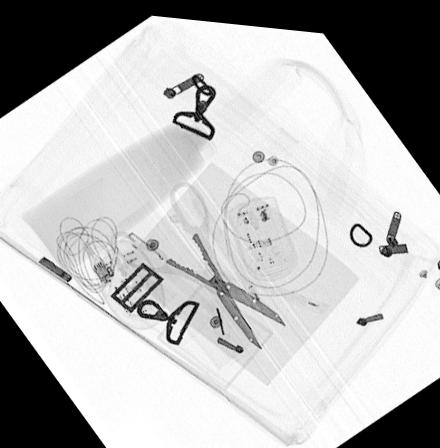Scissors: (108, 174, 287, 343)
